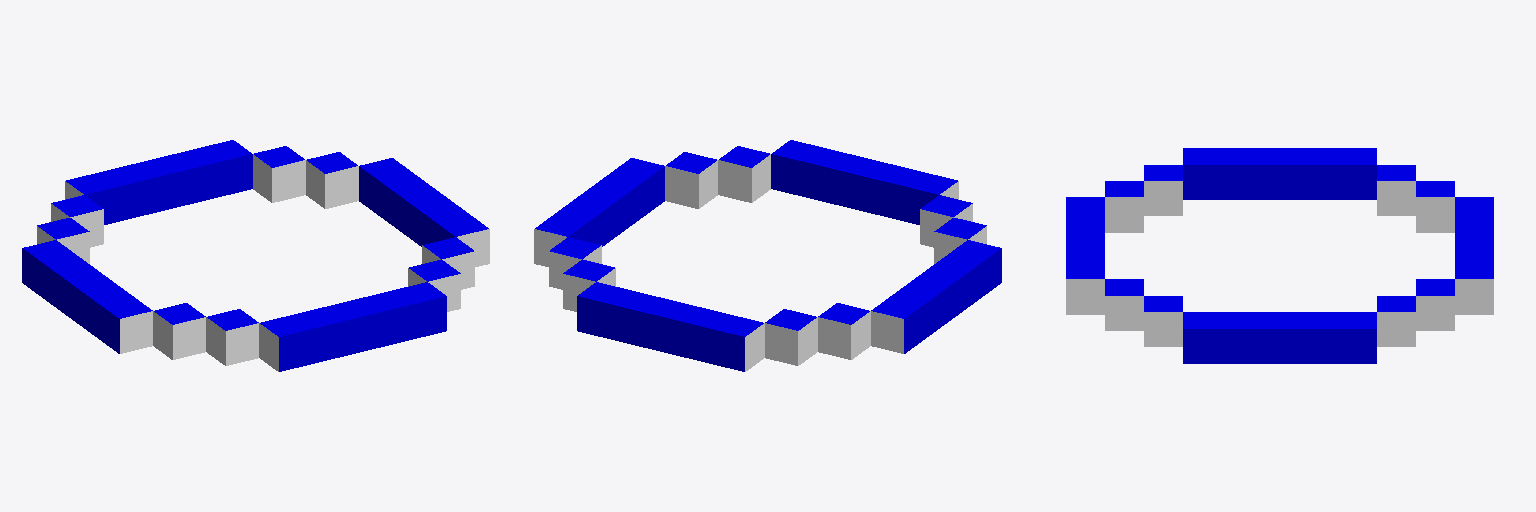
The model's file is RingPlayer2.obj.
The picture shows the model from 3 angles: view 1: azimuth 30°, elevation 25°; view 2: azimuth 150°, elevation 25°; view 3: azimuth 270°, elevation 25°; orthographic projection.
Parts seen in each view (by area): view 1: pCube38 RingFinalPlayer2; view 2: pCube38 RingFinalPlayer2; view 3: pCube38 RingFinalPlayer2.
Boxes of the visible parts, box(x1,y1,x2,y2) form: pCube38 RingFinalPlayer2: box(22, 140, 489, 371); pCube38 RingFinalPlayer2: box(534, 140, 1001, 371); pCube38 RingFinalPlayer2: box(1066, 148, 1493, 363).
Size of the model in its own units: 1.1 by 0.1 by 1.1.